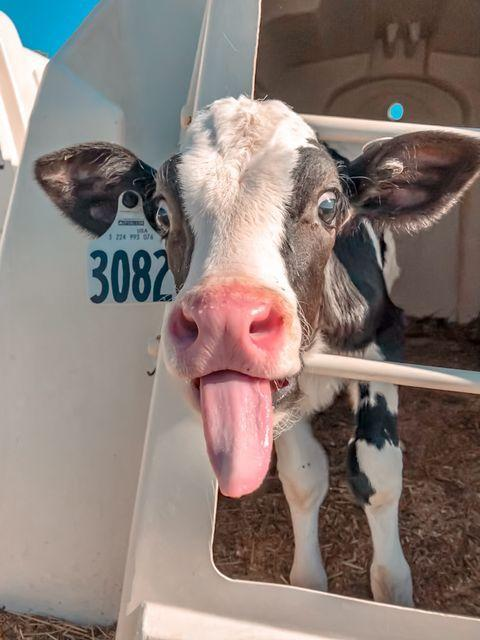cow: (24, 72, 480, 528)
